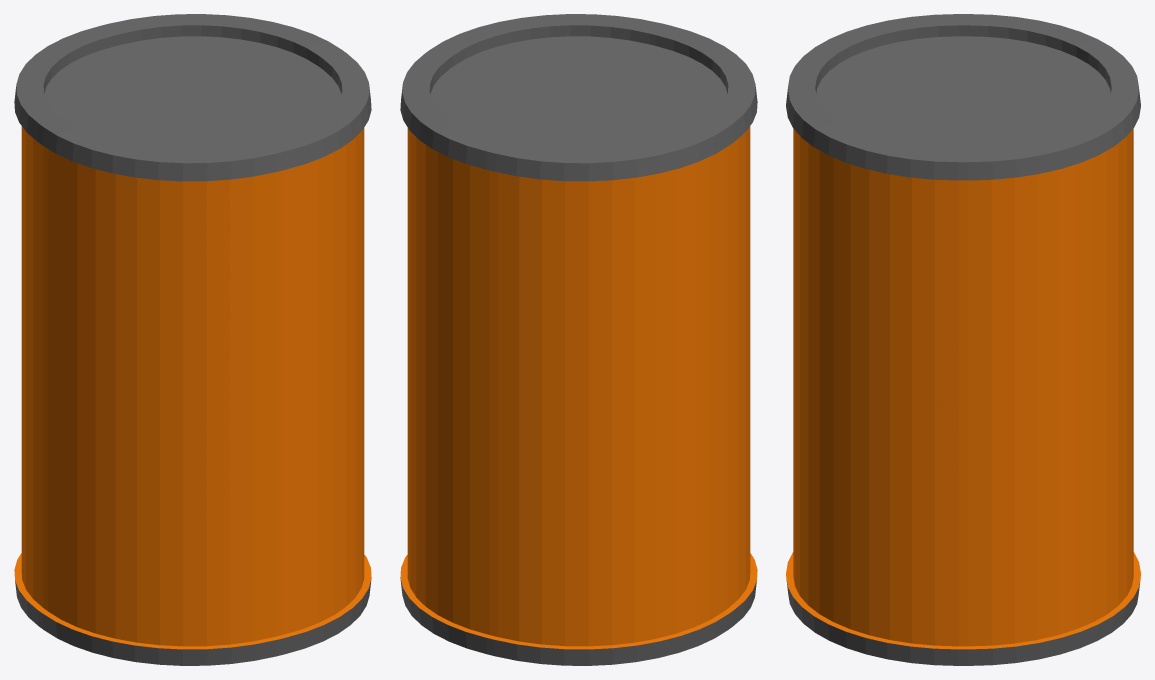
3 renders of one model, left to right at view 1: azimuth 30°, elevation 25°; view 2: azimuth 150°, elevation 25°; view 3: azimuth 270°, elevation 25°, orthographic.
Parts seen in each view (by area): view 1: Cube; view 2: Cube; view 3: Cube.
Part boxes in pixels (x1,y1,x2,y2): Cube: (14,14,371,665); Cube: (400,14,757,665); Cube: (786,14,1140,665).
Bounding box in the file's own units: 208 × 327 × 208.
